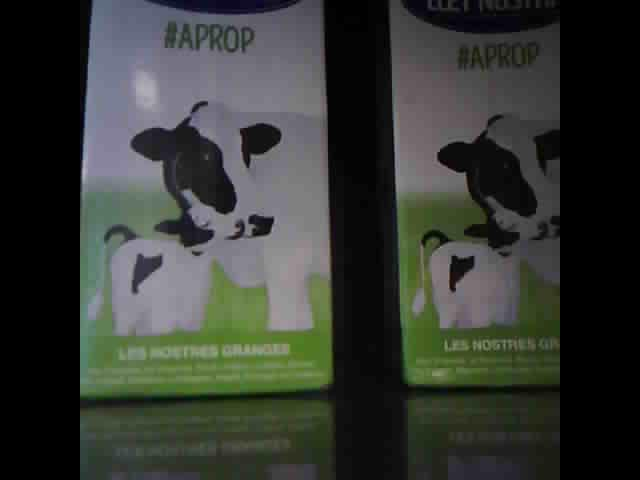leche: (82, 5, 327, 401), (389, 4, 559, 383)
